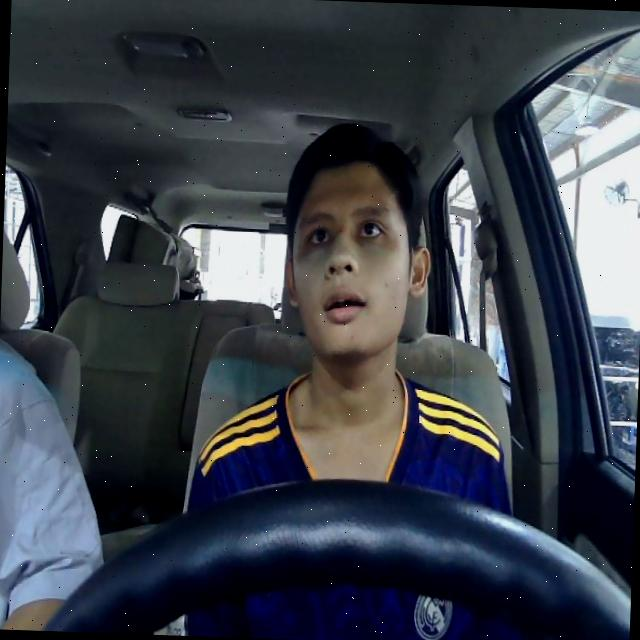yarning: (281, 152, 435, 362)
